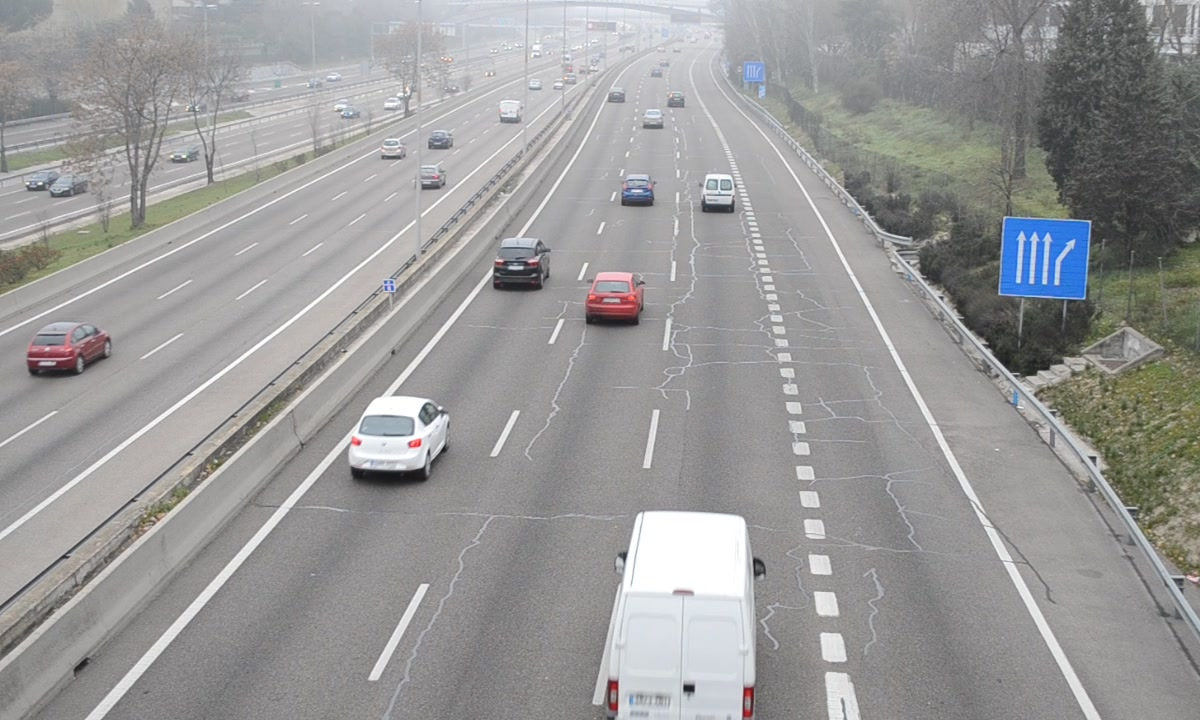car: (347, 397, 449, 473), (586, 270, 641, 323), (493, 237, 547, 287), (621, 173, 656, 206)
van: (603, 509, 758, 720), (701, 172, 737, 211)
